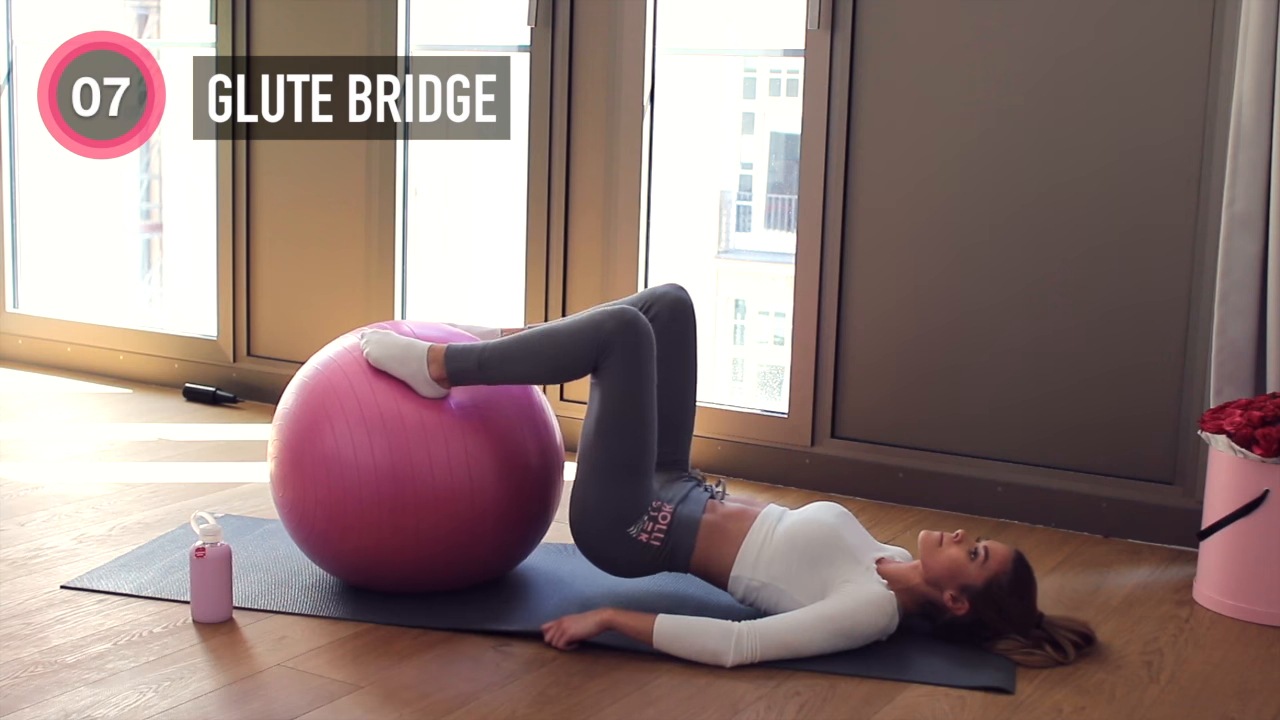yogaball: (261, 313, 570, 609)
